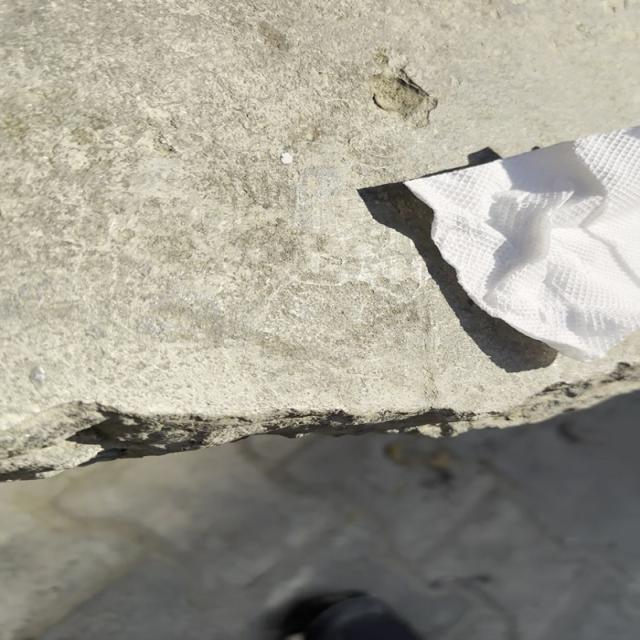tissue: (397, 120, 640, 366)
